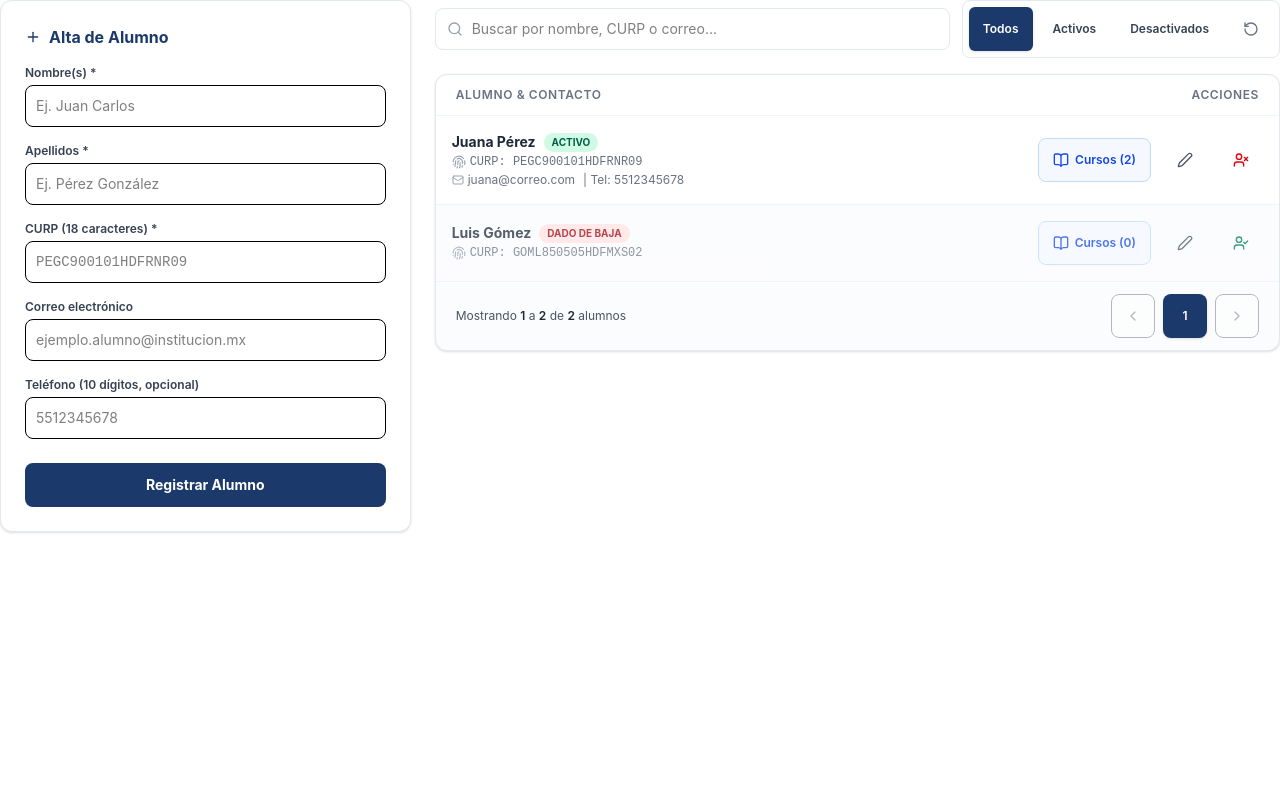
ModuloAlumnos › modal de cursos del alumno › abre el modal y muestra los cursos/certificados del alumno
Click the button with aria-label "ver certificados y cursos inscritos de juana pérez" at (1095, 160), box [1038,138,1151,182]
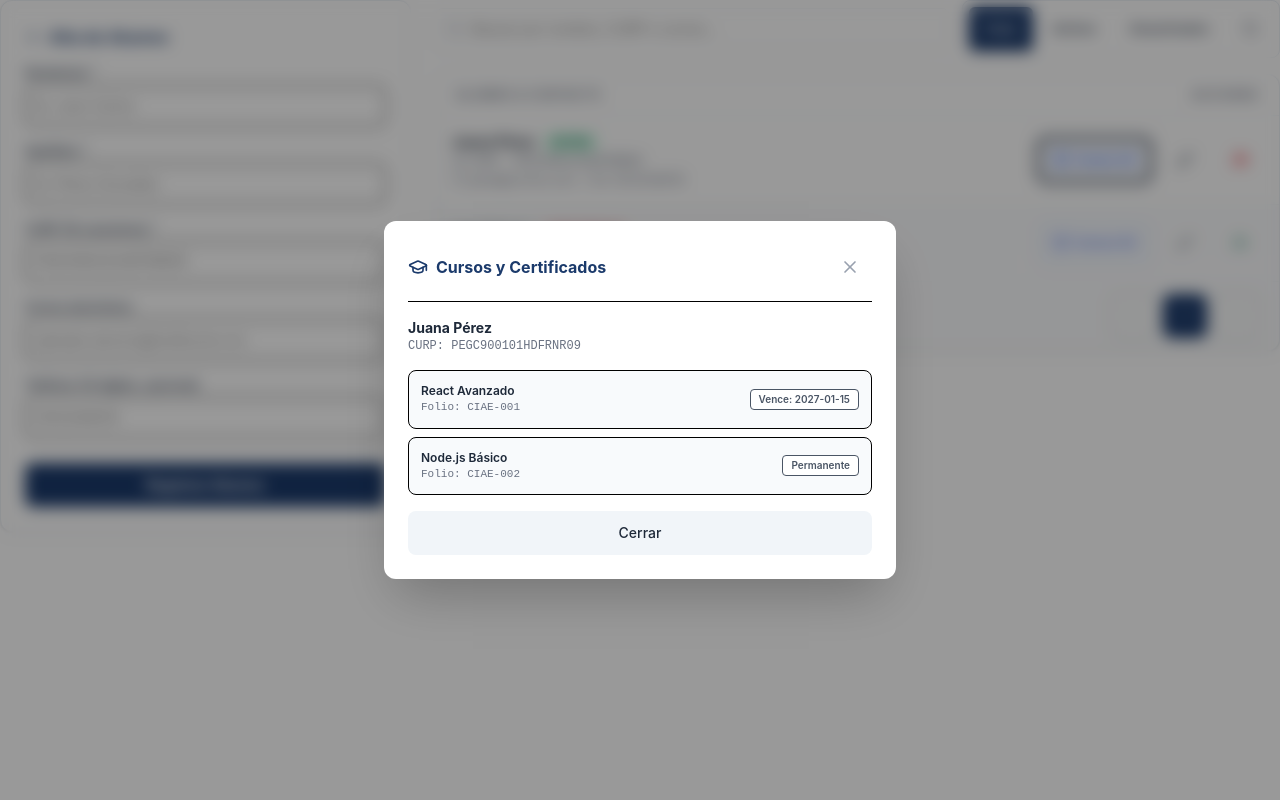
Check: the text "React Avanzado" is shown, box [421,383,520,399]
Check: the text "Node.js Básico" is shown, box [421,450,520,466]
Check: the text "Folio: CIAE-001" is shown, box [421,399,520,416]
